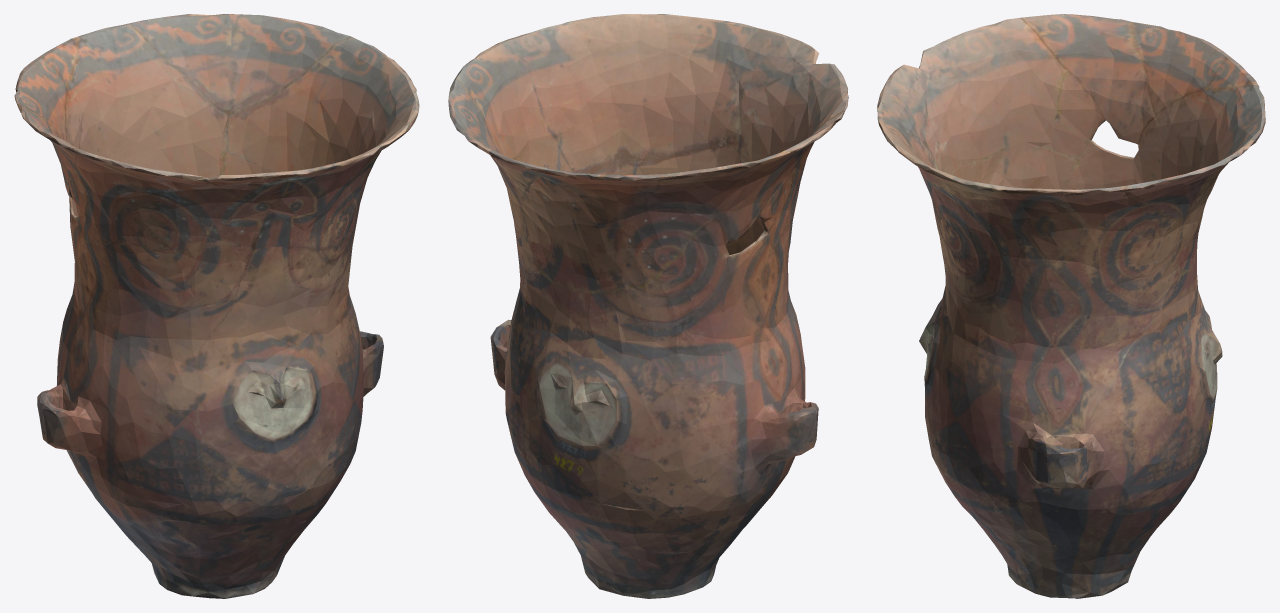
3 views of the same model, side by side, from view 1: azimuth 30°, elevation 25°; view 2: azimuth 150°, elevation 25°; view 3: azimuth 270°, elevation 25° (orthographic). The views are drawn at different scales.
Parts seen in each view (by area): view 1: MA0255; view 2: MA0255; view 3: MA0255.
Part boxes in pixels (x1=…): MA0255: x1=14, y1=14, x2=419, y2=598; MA0255: x1=448, y1=14, x2=848, y2=598; MA0255: x1=877, y1=14, x2=1265, y2=598.
Bounding box in the file's own units: 2.13 × 2.83 × 2.09.
1 material, 1 textured.
